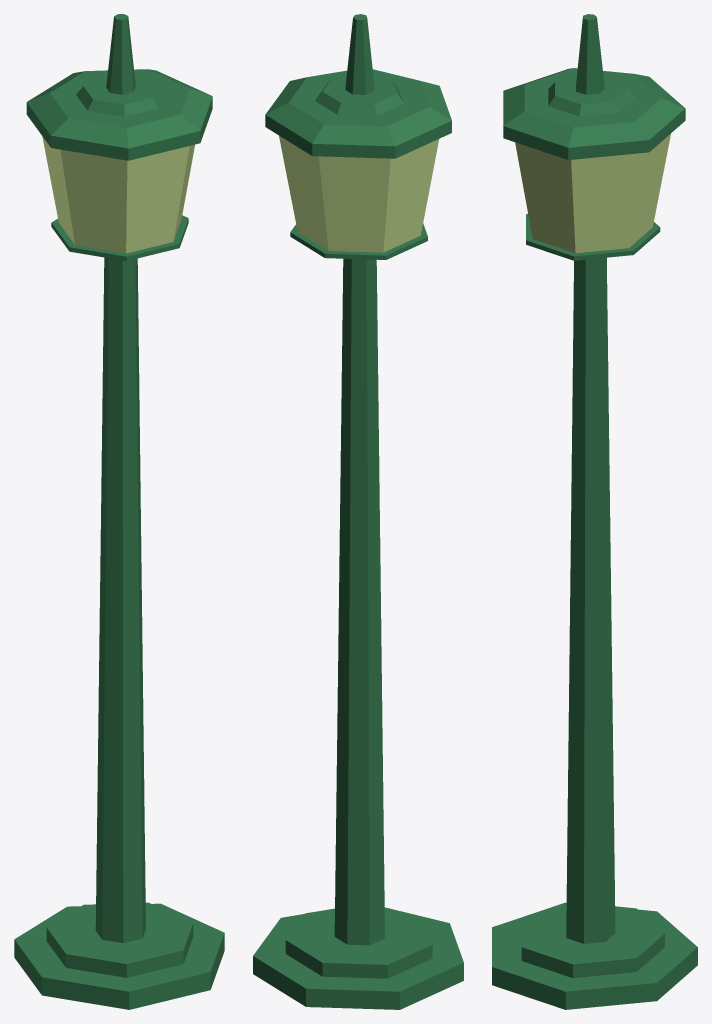
The model's file is streetlight.glb.
3 renders of one model, left to right at view 1: azimuth 30°, elevation 25°; view 2: azimuth 150°, elevation 25°; view 3: azimuth 270°, elevation 25°, orthographic.
Visible parts, largest first — view 1: Circle; view 2: Circle; view 3: Circle.
Boxes of the visible parts, <box> form: Circle: <box>14,14,224,1009</box>; Circle: <box>253,14,463,1009</box>; Circle: <box>492,14,697,1009</box>.
Size of the model in its own units: 1.95 by 9.67 by 1.9.
Materials: 1 (1 with a texture image).
